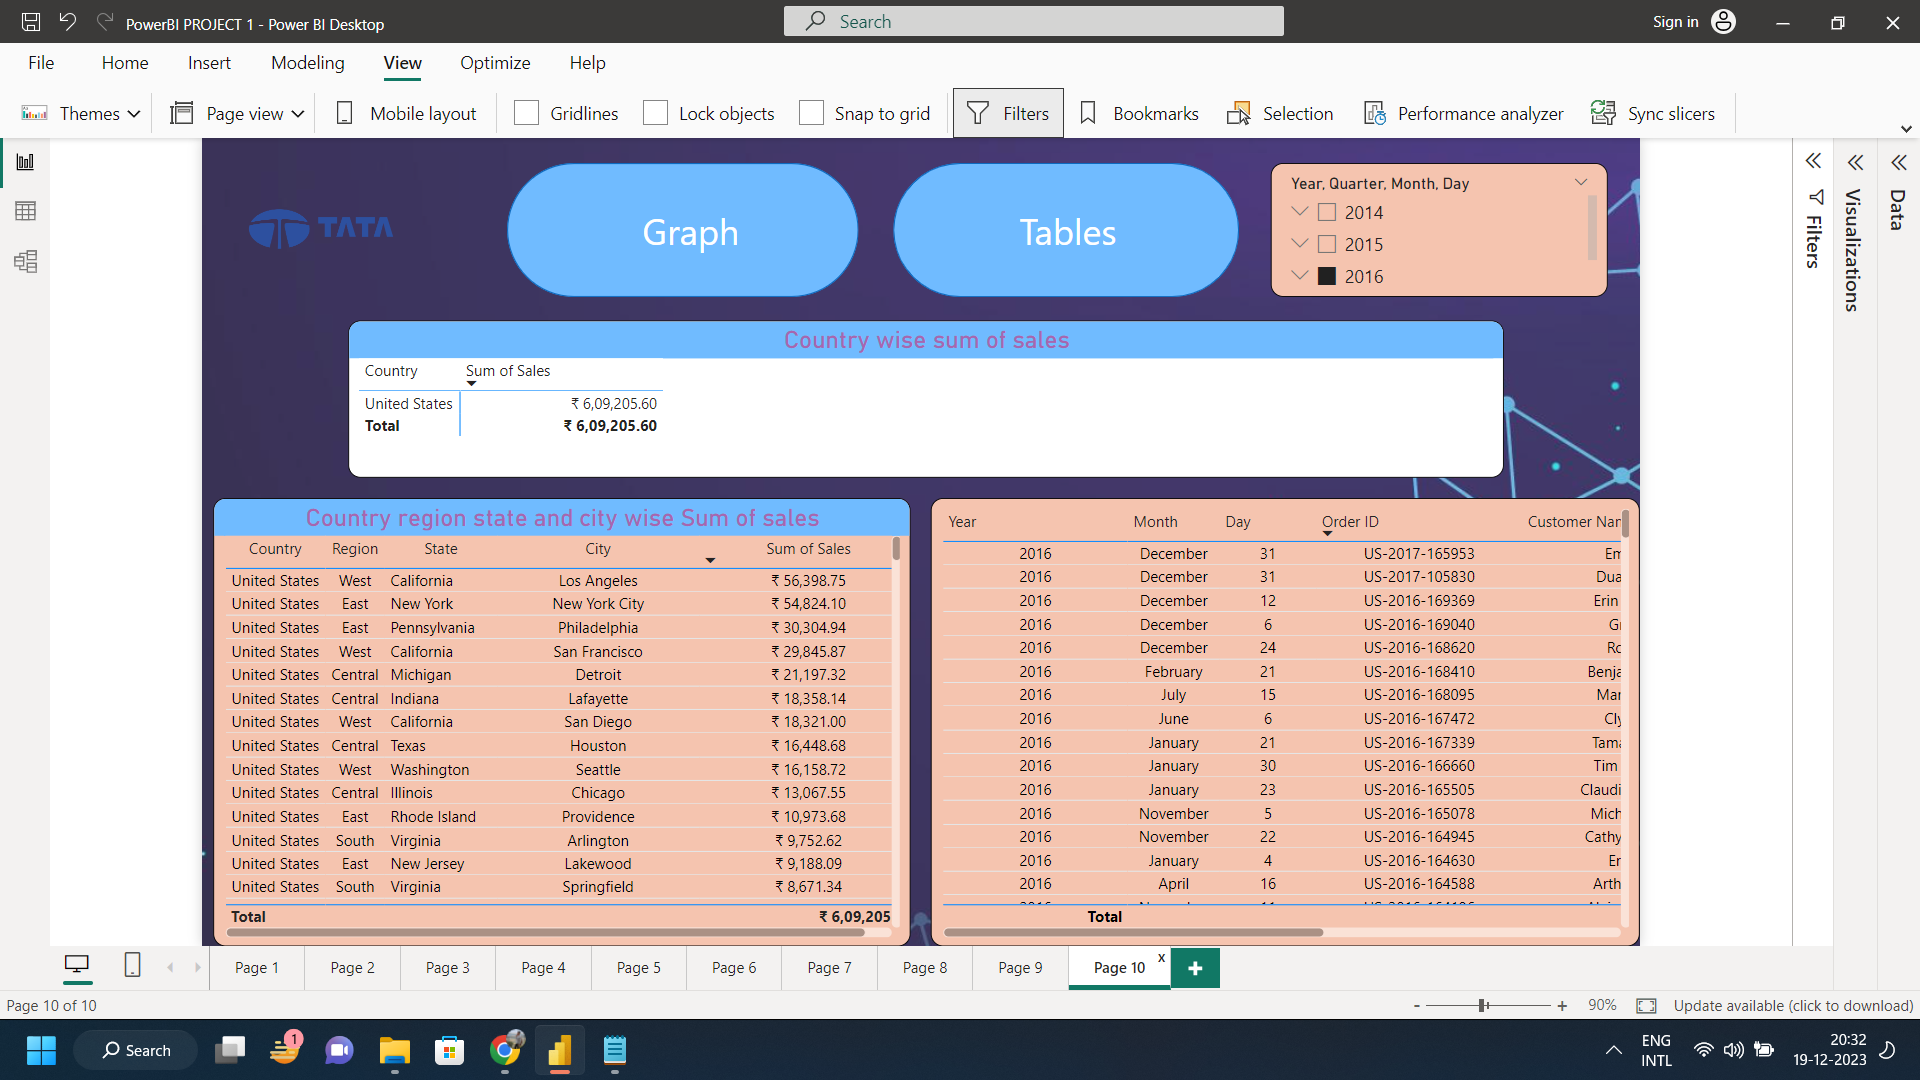

Layout of this report page (visuals, bound fields, positions):
{"tool":"powerbi","page":{"name":"Page 10","canvas":[1280,720],"ordinal":9},"visuals":[{"type":"slicer","fields":{"Values":["Orders.Order Date.Variation.Date Hierarchy.Year","Orders.Order Date.Variation.Date Hierarchy.Quarter","Orders.Order Date.Variation.Date Hierarchy.Month","Orders.Order Date.Variation.Date Hierarchy.Day"]},"box":[951.3,22.3,300.2,119.1],"z":2000},{"type":"tableEx","title":"Country region state and city wise Sum of sales","fields":{"Values":["Orders.Country","Orders.Region","Orders.State","Orders.City","Sum(Orders.Sales)"]},"box":[10.4,320,621,399.6],"z":4000},{"type":"pivotTable","title":"Country wise sum of sales","fields":{"Rows":["Orders.Country"],"Values":["Sum(Orders.Sales)"]},"box":[129.7,162.6,1029.2,140.1],"z":5000},{"type":"tableEx","fields":{"Values":["Orders.Order Date.Variation.Date Hierarchy.Year","Orders.Order Date.Variation.Date Hierarchy.Month","Orders.Order Date.Variation.Date Hierarchy.Day","Orders.Order ID","Orders.Customer Name","Sum(Orders.Sales)","Sum(Orders.Profit)","Sum(Orders.Quantity)"]},"box":[648.6,320,631.4,399.6],"z":7000},{"type":"image","box":[10.4,5.2,192,150.5],"z":8000},{"type":"shape","title":"GRAPHS","box":[271.6,22.5,313.1,119.4],"z":9000,"group":"g1"},{"type":"shape","title":"TABLES","box":[615.8,22.5,307.9,119.4],"z":10000,"group":"g2"},{"type":"textbox","box":[380.6,55.4,109,67.5],"z":11000,"group":"g1"},{"type":"textbox","box":[697.1,55.4,148.8,67.5],"z":11001,"group":"g2"},{"type":"group","id":"g1","title":"Group 1","box":[271.6,22.5,313.1,119.4],"z":11002},{"type":"group","id":"g2","title":"Group 2","box":[615.8,22.5,307.9,119.4],"z":11003}]}

Visuals, with their boxes on the page's 1280x720 design canvas (x1, y1, x2, y2). These are canvas units, not pixel positions in the 1920x1080 screenshot, which may show the page scaled, cropped or inside an application window:
slicer - Orders.Order Date.Variation.Date Hierarchy.Year x Orders.Order Date.Variation.Date Hierarchy.Quarter: {"x1": 951, "y1": 22, "x2": 1252, "y2": 141}
"Country region state and city wise Sum of sales" tableEx: {"x1": 10, "y1": 320, "x2": 631, "y2": 720}
"Country wise sum of sales" pivotTable: {"x1": 130, "y1": 163, "x2": 1159, "y2": 303}
tableEx - Orders.Order Date.Variation.Date Hierarchy.Year x Orders.Order Date.Variation.Date Hierarchy.Month: {"x1": 649, "y1": 320, "x2": 1280, "y2": 720}
image: {"x1": 10, "y1": 5, "x2": 202, "y2": 156}
"GRAPHS" shape: {"x1": 272, "y1": 22, "x2": 585, "y2": 142}
"TABLES" shape: {"x1": 616, "y1": 22, "x2": 924, "y2": 142}
textbox: {"x1": 381, "y1": 55, "x2": 490, "y2": 123}
textbox: {"x1": 697, "y1": 55, "x2": 846, "y2": 123}
"Group 1" group: {"x1": 272, "y1": 22, "x2": 585, "y2": 142}
"Group 2" group: {"x1": 616, "y1": 22, "x2": 924, "y2": 142}
